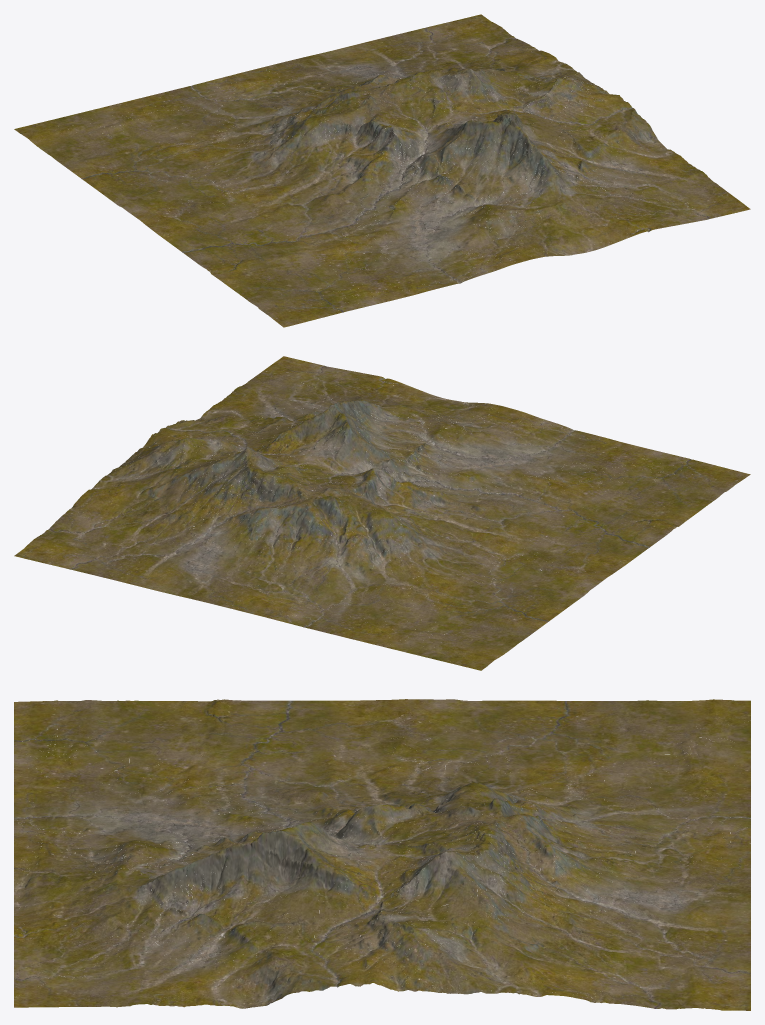
File: mountain.glb
3 views of the same model, one above another, from view 1: azimuth 30°, elevation 25°; view 2: azimuth 150°, elevation 25°; view 3: azimuth 270°, elevation 25° (orthographic). The views are drawn at different scales.
Visible parts, largest first — view 1: Mesh_DefaultMaterial_0 (×6); view 2: Mesh_DefaultMaterial_0 (×6); view 3: Mesh_DefaultMaterial_0 (×6).
Part boxes in pixels (x1=…): Mesh_DefaultMaterial_0 (×6): x1=14, y1=14, x2=750, y2=327; Mesh_DefaultMaterial_0 (×6): x1=14, y1=356, x2=750, y2=670; Mesh_DefaultMaterial_0 (×6): x1=14, y1=699, x2=750, y2=1010.
Bounding box in the file's own units: 49.99 × 6.4 × 49.99.
1 material, 1 textured.
